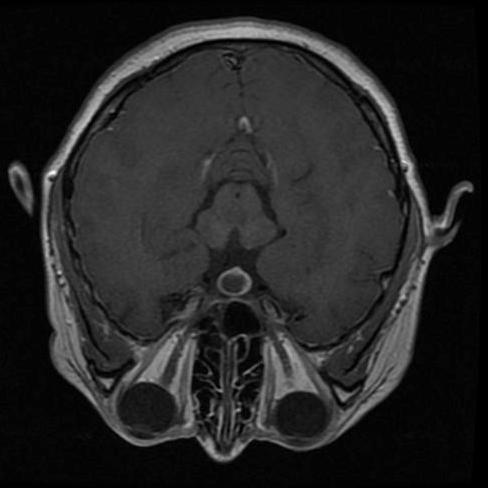Tumour-Pituitary: (183, 262, 284, 308)
